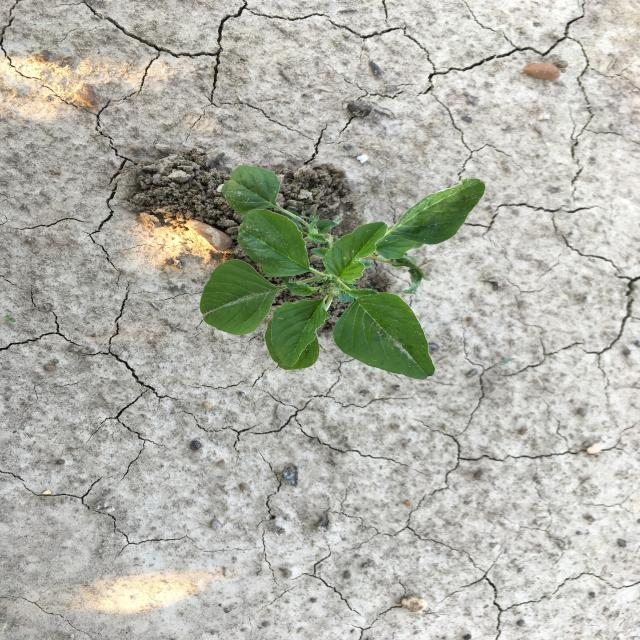PalmerAmaranth: (198, 162, 487, 382)
